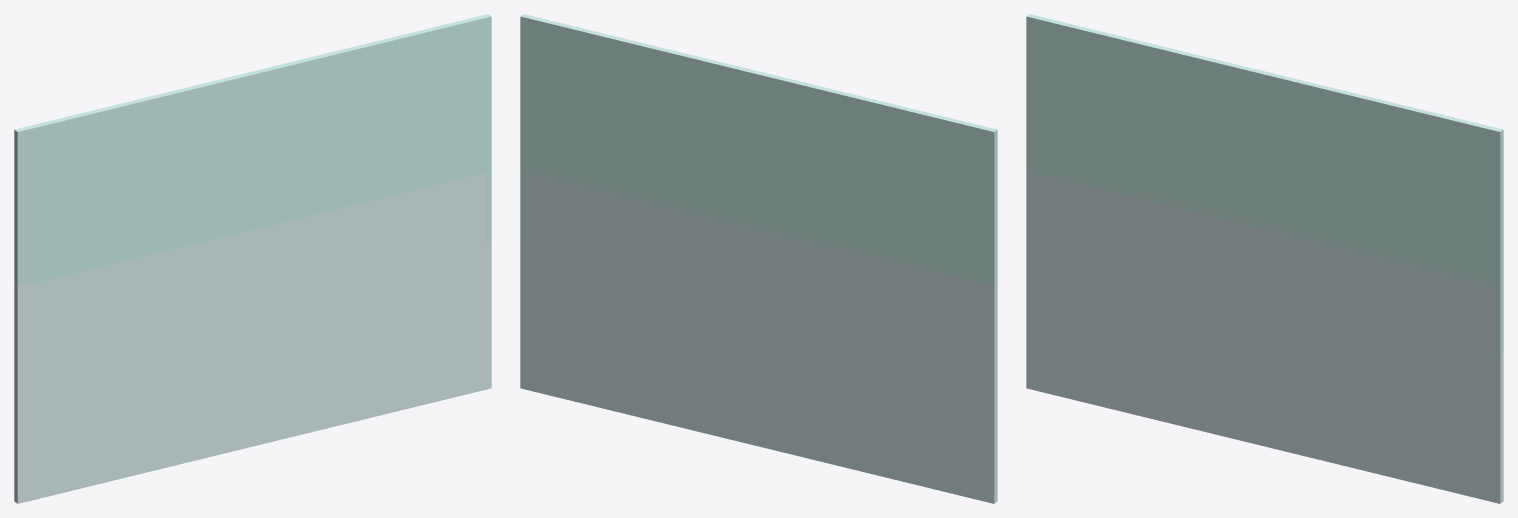
File: BG_Sky.obj
3 views of the same model, side by side, from view 1: azimuth 30°, elevation 25°; view 2: azimuth 150°, elevation 25°; view 3: azimuth 330°, elevation 25° (orthographic).
Bounding box in the file's own units: 80 × 60 × 1.
1 material, 1 textured.
